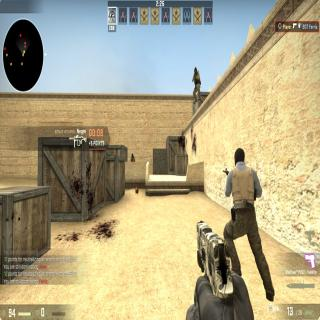CT-Body: (191, 66, 201, 102)
CT-Head: (193, 66, 198, 75)
T-Body: (220, 146, 272, 300)
T-Head: (232, 146, 248, 172)
